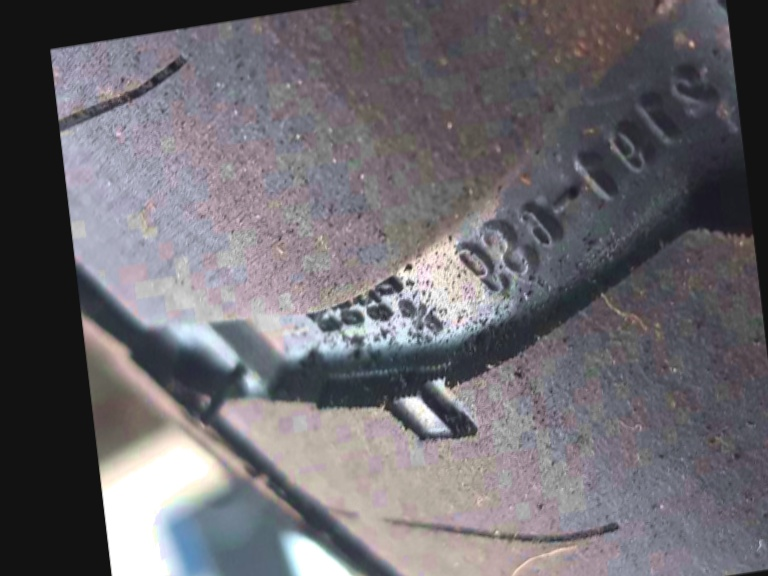temoin:25: (371, 342, 489, 462)
